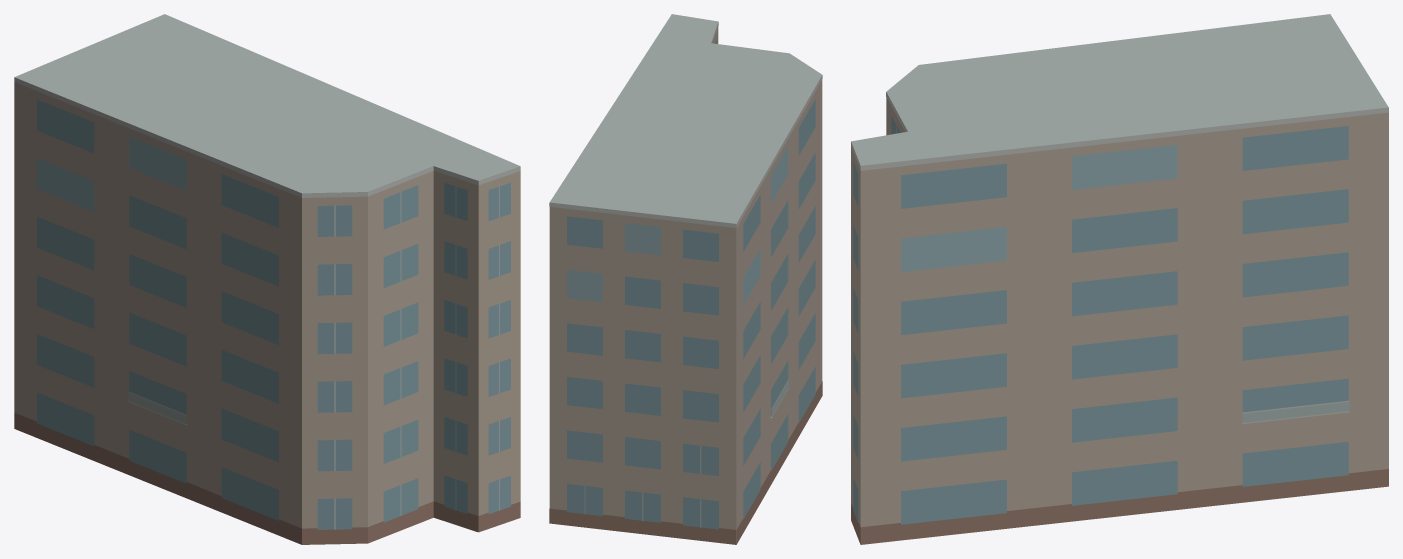
File: survey-upis-32712473.glb
The picture shows the model from 3 angles, left to right: view 1: azimuth 30°, elevation 25°; view 2: azimuth 150°, elevation 25°; view 3: azimuth 270°, elevation 25°; orthographic projection. The views are drawn at different scales.
Parts seen in each view (by area): view 1: survey-upis-32712473.tmp; view 2: survey-upis-32712473.tmp; view 3: survey-upis-32712473.tmp.
Part boxes in pixels (x1,y1,x2,y2): survey-upis-32712473.tmp: [14, 14, 520, 544]; survey-upis-32712473.tmp: [549, 14, 822, 544]; survey-upis-32712473.tmp: [851, 14, 1388, 544].
Bounding box in the file's own units: 15.73 × 18.3 × 23.54.
